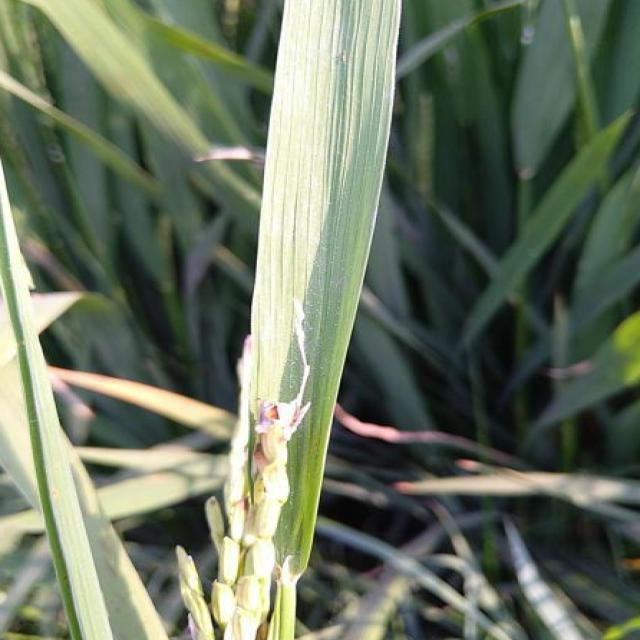Panicle Blight: (251, 398, 310, 506), (254, 620, 277, 640)
